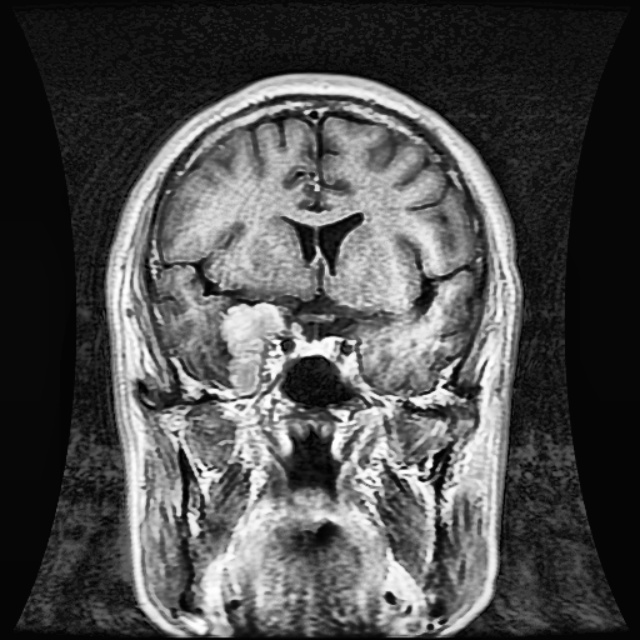Glioma: (222, 303, 285, 392)
